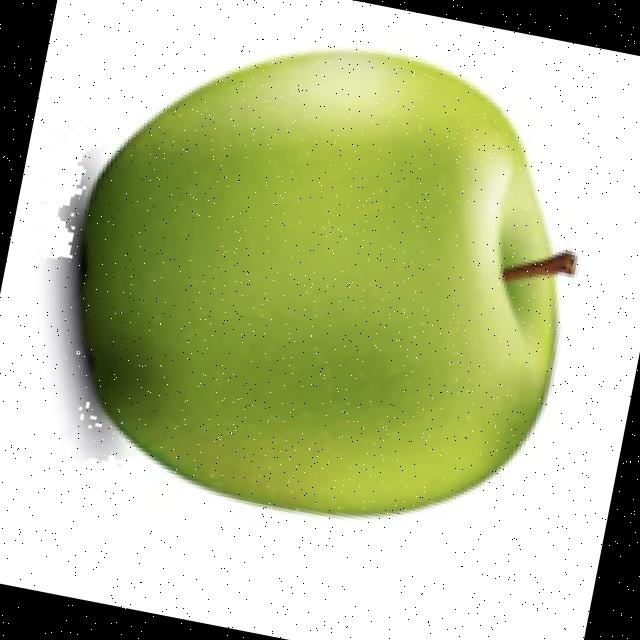apple: (37, 43, 583, 522)
